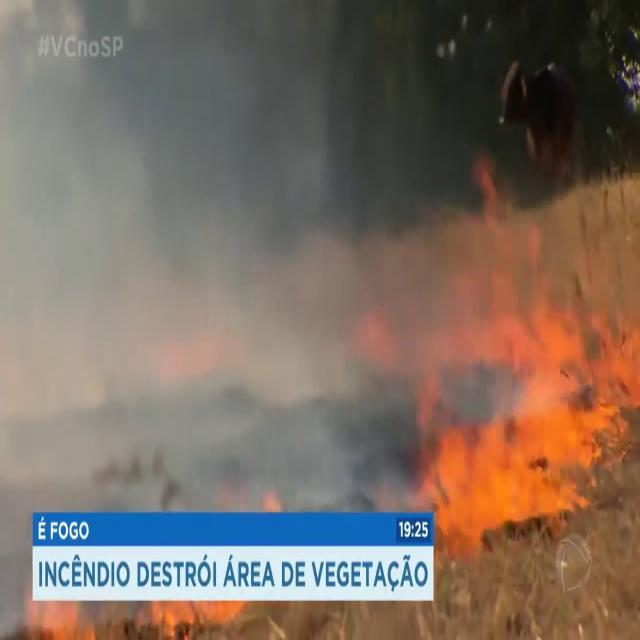Fire: (408, 250, 640, 528)
Smoke: (1, 0, 479, 495)
